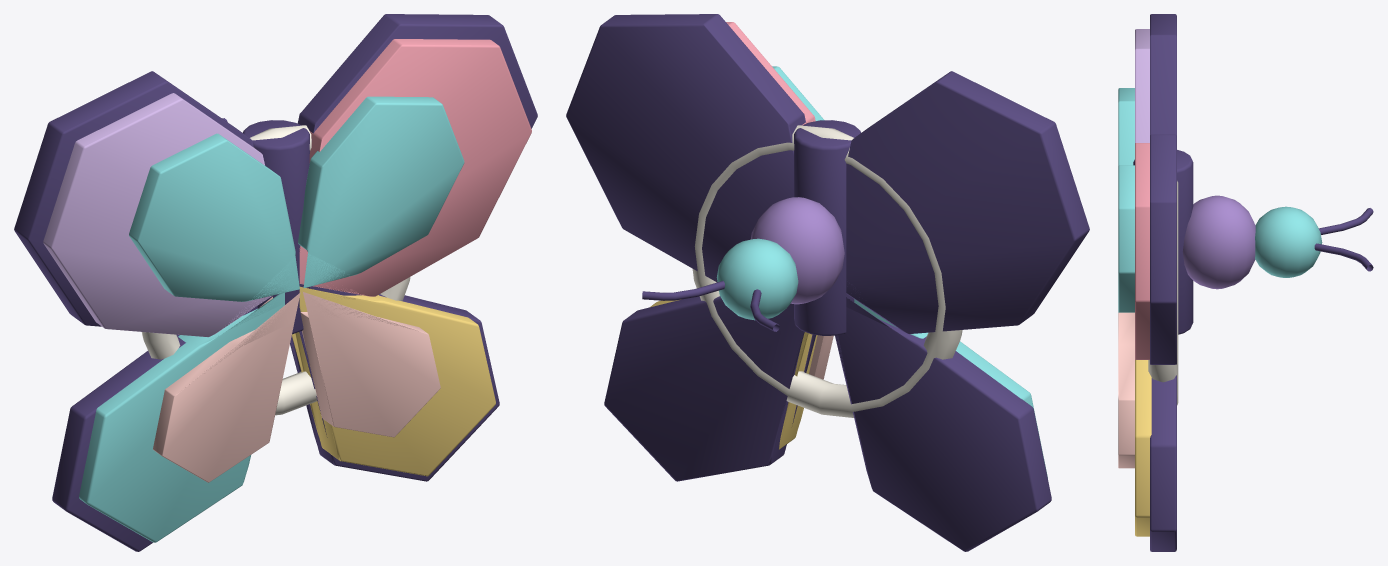
File: butterfly_gate.glb
3 renders of one model, left to right at view 1: azimuth 30°, elevation 25°; view 2: azimuth 150°, elevation 25°; view 3: azimuth 270°, elevation 25°, orthographic. The views are drawn at different scales.
Visible parts, largest first — view 1: Upper_L, UpperInset_R, Upper_R, UpperInset_L, Lower_L, Lower_R, LowerInset_L, LowerInset_R, Upper_L_Ink, Upper_R_Ink, Lower_L_Ink, Body (+2 smaller); view 2: Upper_L_Ink, Upper_R_Ink, Lower_L_Ink, Lower_R_Ink, PortalFrame, Body, Thorax, Head, Lower_L, Lower_R, Upper_R, Antenna_1.0 (+1 smaller); view 3: Upper_R_Ink, Thorax, Lower_R_Ink, Head, Upper_L_Ink, Upper_R, Lower_R, LowerInset_R, UpperInset_R, Body, Upper_L, UpperInset_L (+3 smaller).
Part boxes in pixels (<box>): Upper_L: <box>43,93,271,337</box>; UpperInset_R: <box>298,96,464,287</box>; Upper_R: <box>299,39,531,296</box>; UpperInset_L: <box>129,133,299,301</box>; Lower_L: <box>79,293,284,542</box>; Lower_R: <box>291,286,495,476</box>; LowerInset_L: <box>153,292,300,482</box>; LowerInset_R: <box>300,292,440,437</box>; Upper_L_Ink: <box>14,71,253,326</box>; Upper_R_Ink: <box>297,14,537,141</box>; Lower_L_Ink: <box>52,306,257,551</box>; Body: <box>243,120,309,334</box>; Upper_L_Ink: <box>846,71,1089,334</box>; Upper_R_Ink: <box>566,14,805,282</box>; Lower_L_Ink: <box>835,297,1051,551</box>; Lower_R_Ink: <box>604,296,816,481</box>; PortalFrame: <box>692,125,962,417</box>; Body: <box>794,120,860,335</box>; Thorax: <box>750,197,844,304</box>; Head: <box>716,238,798,320</box>; Lower_L: <box>854,299,1047,478</box>; Lower_R: <box>650,299,817,449</box>; Upper_R: <box>726,22,815,125</box>; Antenna_1.0: <box>642,281,724,300</box>; Upper_R_Ink: <box>1150,134,1176,364</box>; Thorax: <box>1182,195,1255,289</box>; Lower_R_Ink: <box>1150,375,1176,551</box>; Head: <box>1255,206,1322,277</box>; Upper_L_Ink: <box>1150,14,1176,135</box>; Upper_R: <box>1135,143,1149,359</box>; Lower_R: <box>1135,360,1151,536</box>; LowerInset_R: <box>1118,312,1134,468</box>; UpperInset_R: <box>1118,165,1134,312</box>; Body: <box>1133,150,1193,334</box>; Upper_L: <box>1135,29,1149,142</box>; UpperInset_L: <box>1118,88,1134,165</box>.
Size of the model in its own units: 3.43 by 2.98 by 1.7.
